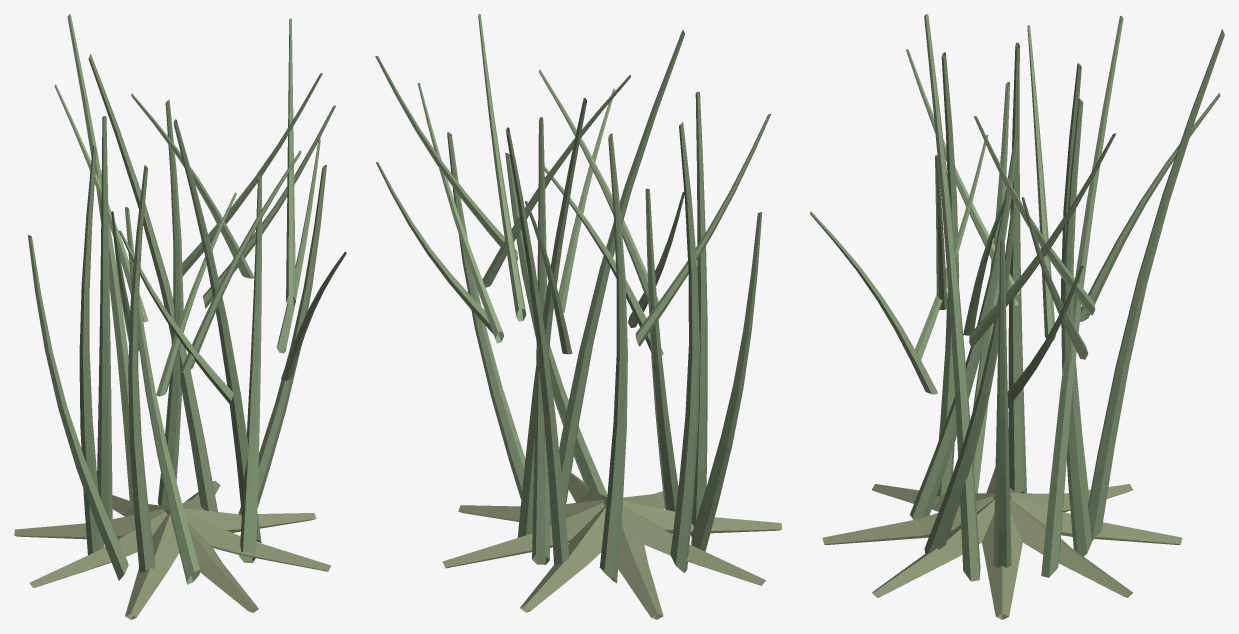
Rendered from FilamentHabitat2.gltf.
3 views of the same model, side by side, from view 1: azimuth 30°, elevation 25°; view 2: azimuth 150°, elevation 25°; view 3: azimuth 270°, elevation 25° (orthographic). The views are drawn at different scales.
Parts seen in each view (by area): view 1: FilamentHabitat2; view 2: FilamentHabitat2; view 3: FilamentHabitat2.
Part boxes in pixels (<box>): FilamentHabitat2: <box>14,14,346,619</box>; FilamentHabitat2: <box>375,14,781,619</box>; FilamentHabitat2: <box>810,14,1224,619</box>.
Size of the model in its own units: 1.02 by 1.4 by 1.02.
